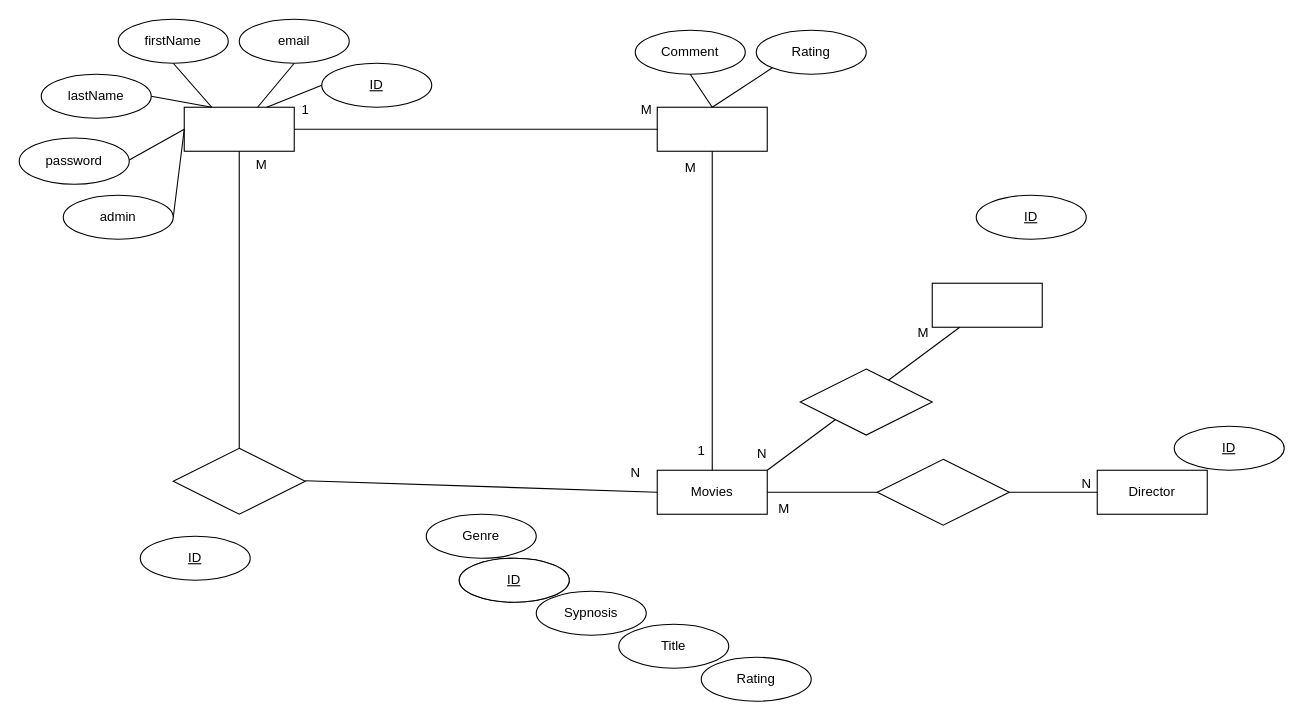
This 1304x721 diagram has some shape labels left out. The centre of each missing label's shape, as x and y in pixels:
"Actor" goes at pixel 986 304.
"Productions" goes at pixel 942 491.
"Profile" goes at pixel 238 128.
"Review" goes at pixel 711 128.
"Roles" goes at pixel 865 401.
"Watchlist" goes at pixel 238 480.
